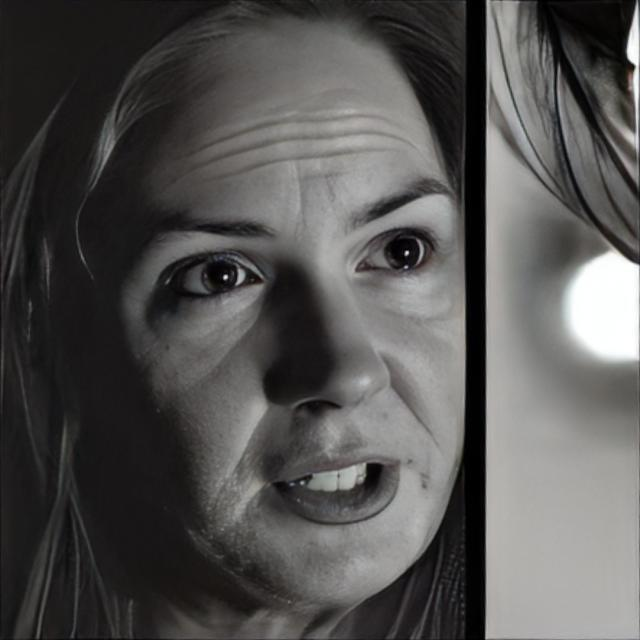fear: (78, 0, 470, 614)
